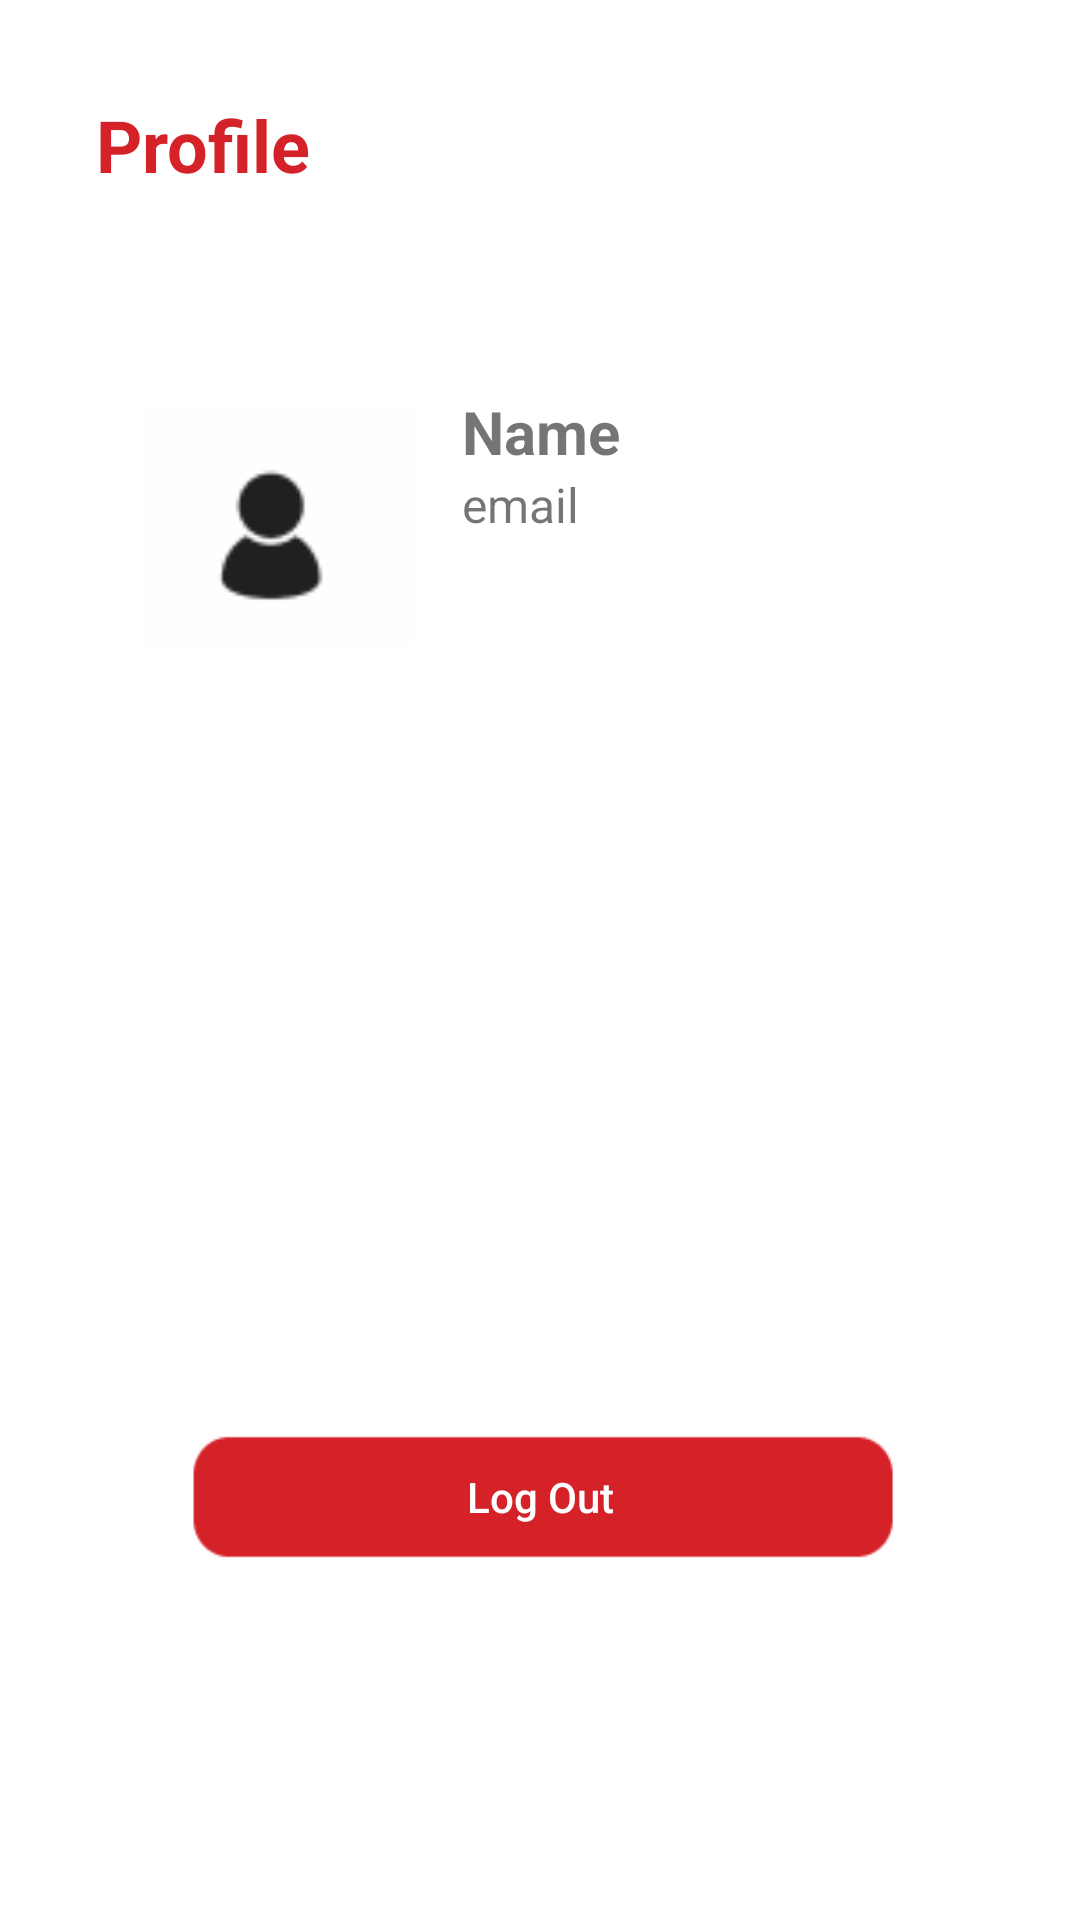

Where to tap for icons on this 1080px×1920px app screen, as [x,y]:
Profile Picture: [271,535]
